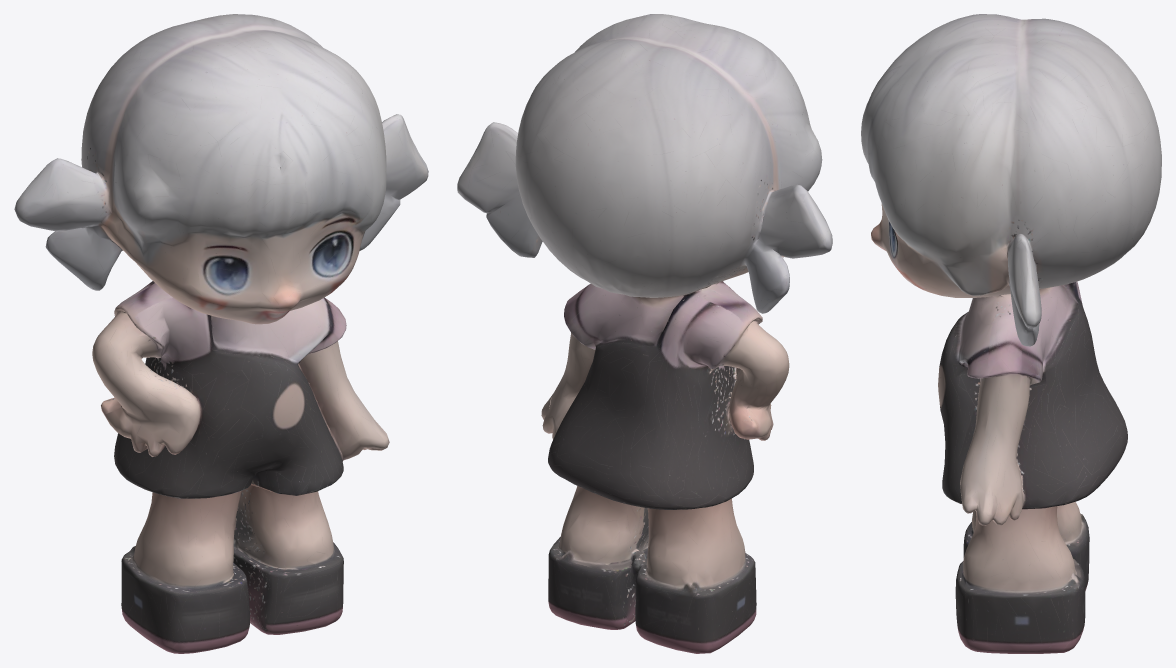
The model's file is output_user6_textured_hq_lowpoly_textured.glb.
3 views of the same model, side by side, from view 1: azimuth 30°, elevation 25°; view 2: azimuth 150°, elevation 25°; view 3: azimuth 270°, elevation 25° (orthographic). The views are drawn at different scales.
Parts seen in each view (by area): view 1: geometry_0; view 2: geometry_0; view 3: geometry_0.
Part boxes in pixels (x1=…): geometry_0: x1=14, y1=14, x2=428, y2=653; geometry_0: x1=457, y1=14, x2=832, y2=653; geometry_0: x1=861, y1=14, x2=1161, y2=653.
Bounding box in the file's own units: 1.39 × 1.99 × 0.9394.
Materials: 1 (1 with a texture image).
